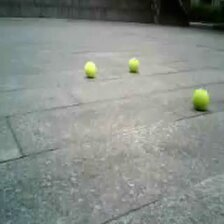tennis: (193, 89, 211, 108), (82, 62, 97, 76), (128, 57, 138, 72)
